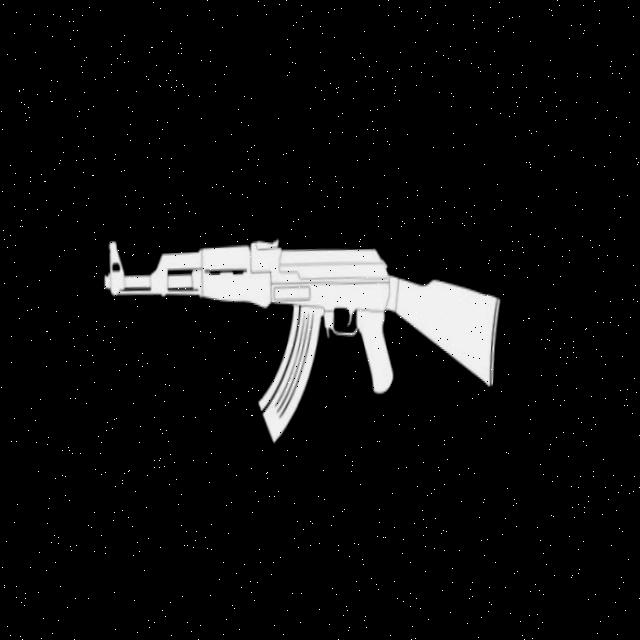firearm: (98, 215, 511, 451)
